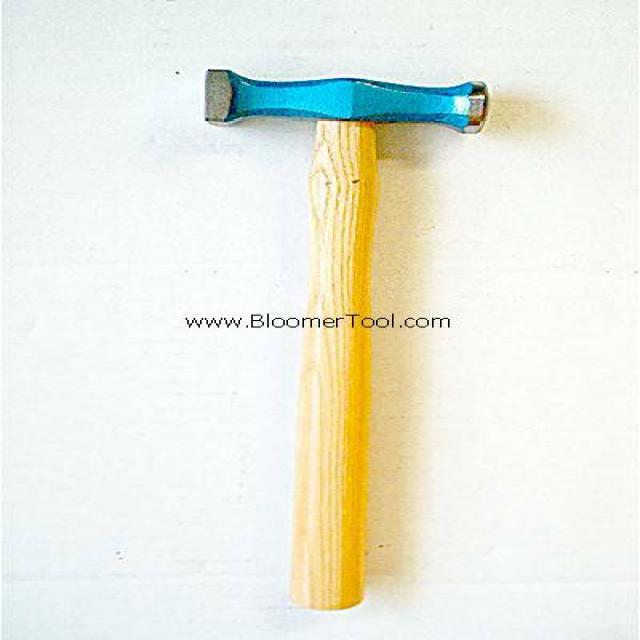hammer: (196, 59, 503, 613)
